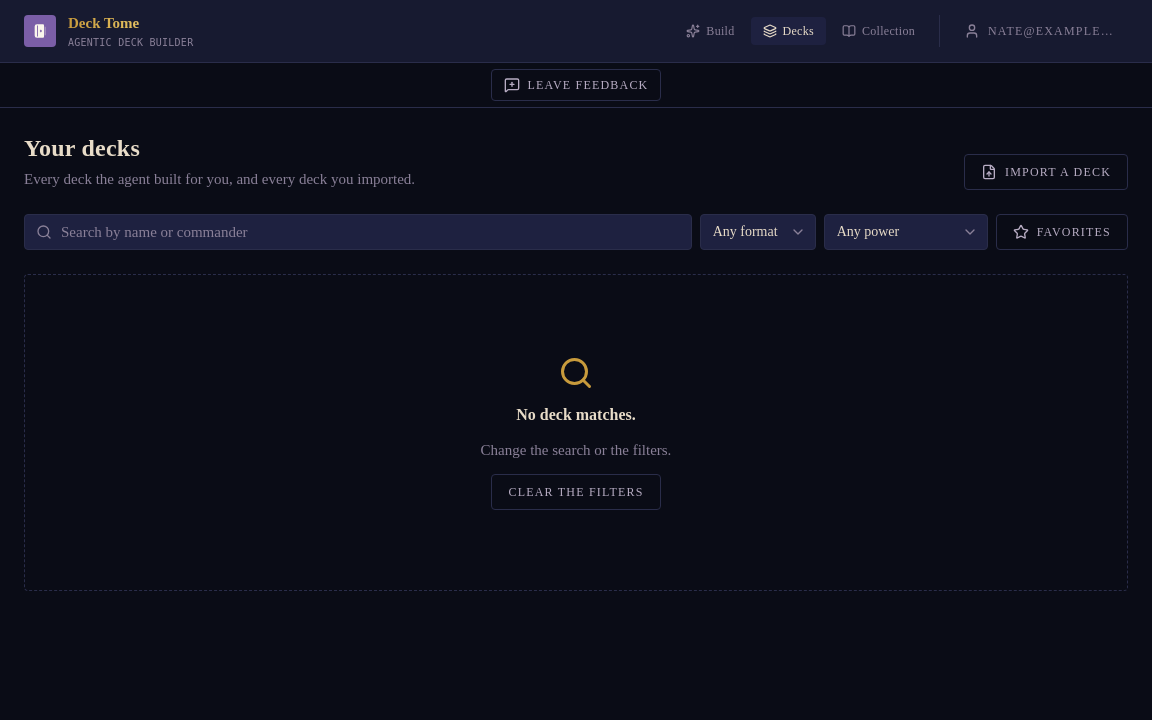
Test case: a menu after the warm-up › opens and closes with no reload
Click the button with aria-label "Account menu" at [1040, 31], box [952, 15, 1128, 47]
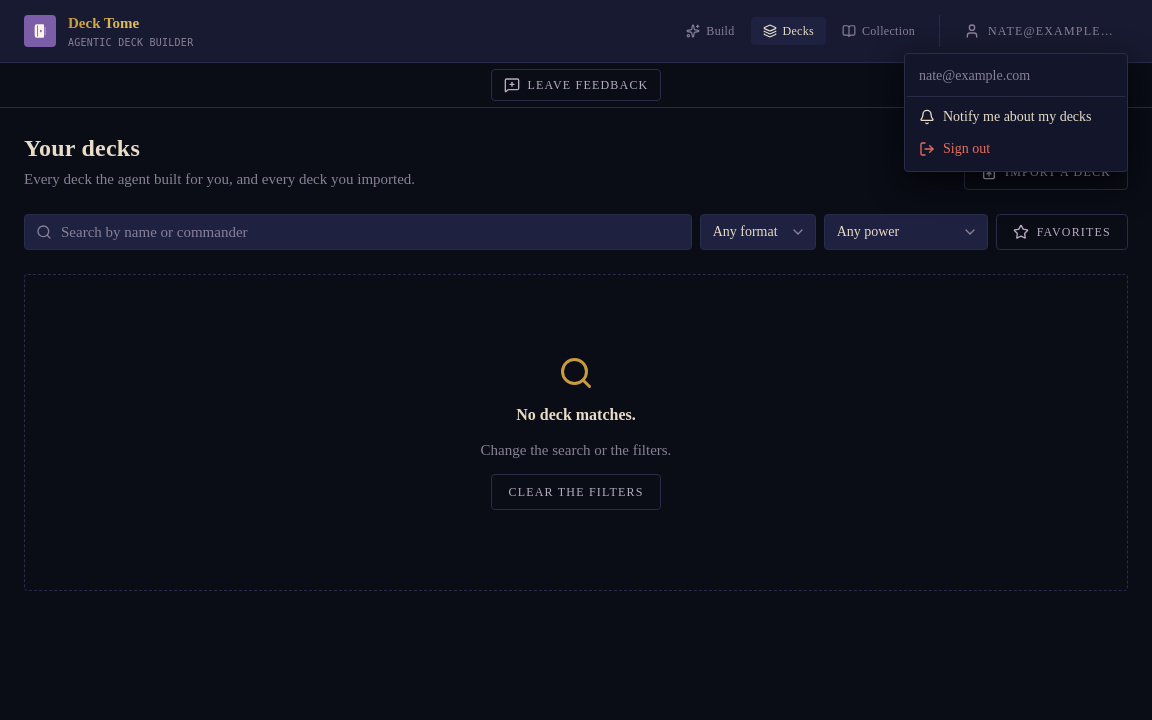
Now the menu item "Sign out" is shown, box [919, 141, 990, 157]
Press Escape
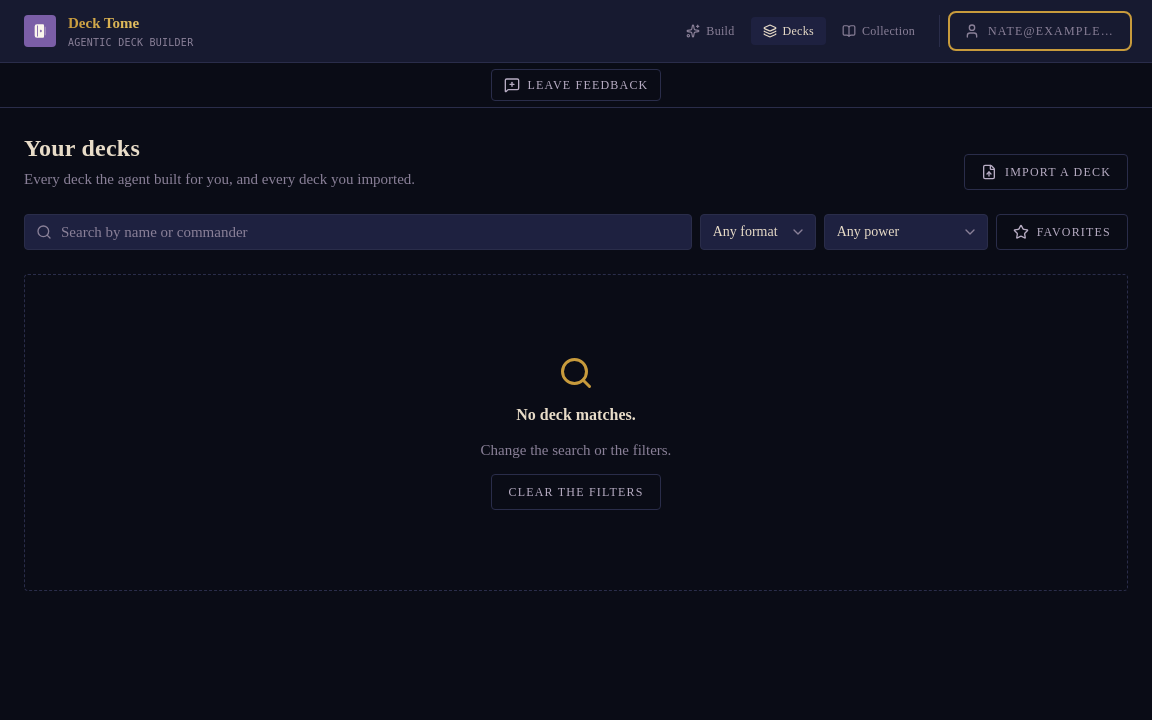
Now the menu item "Sign out" is gone
